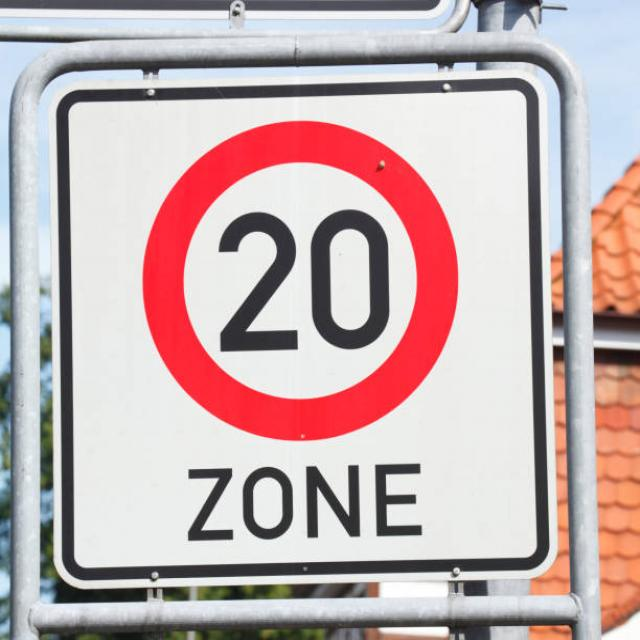speed_limit_20: (128, 116, 471, 448)
